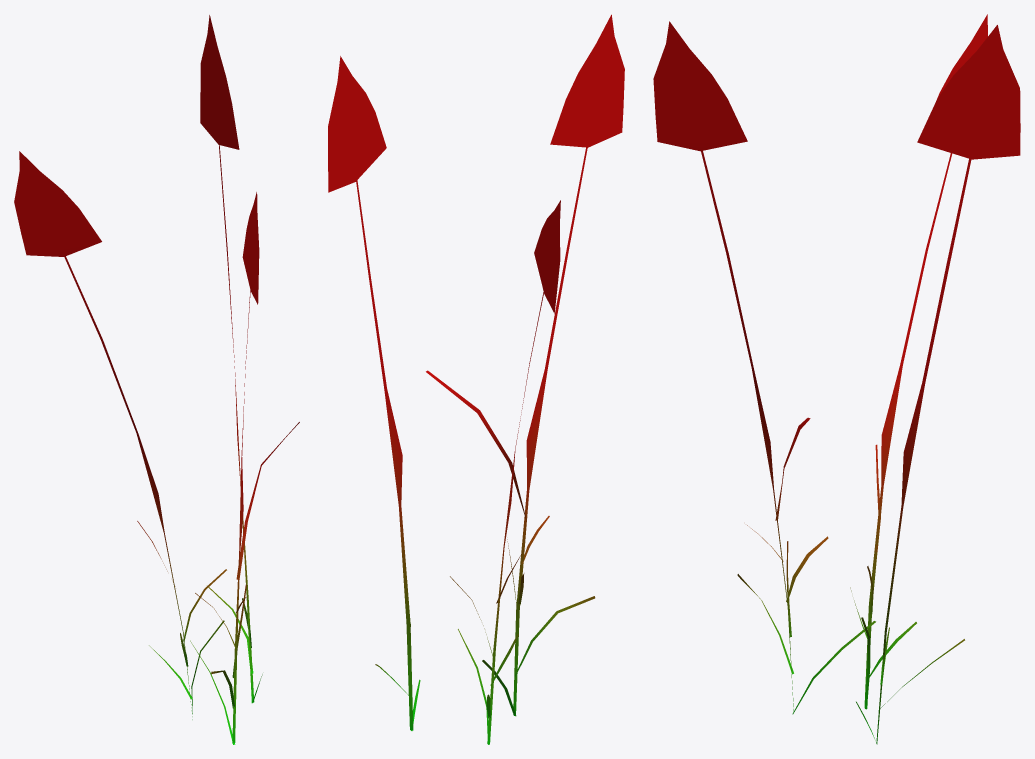
The model's file is Tundra Grass_LOD6_Var9_wk2oaeyqx.fbx.
3 views of the same model, side by side, from view 1: azimuth 30°, elevation 25°; view 2: azimuth 150°, elevation 25°; view 3: azimuth 270°, elevation 25° (orthographic). The views are drawn at different scales.
Parts seen in each view (by area): view 1: _8lyx_Var9_LOD6; view 2: _8lyx_Var9_LOD6; view 3: _8lyx_Var9_LOD6.
Part boxes in pixels (left/top/right/bottom): _8lyx_Var9_LOD6: left=14, top=15, right=299, bottom=744; _8lyx_Var9_LOD6: left=328, top=14, right=624, bottom=744; _8lyx_Var9_LOD6: left=653, top=14, right=1020, bottom=744.
Size of the model in its own units: 23.49 by 71.41 by 32.7.
